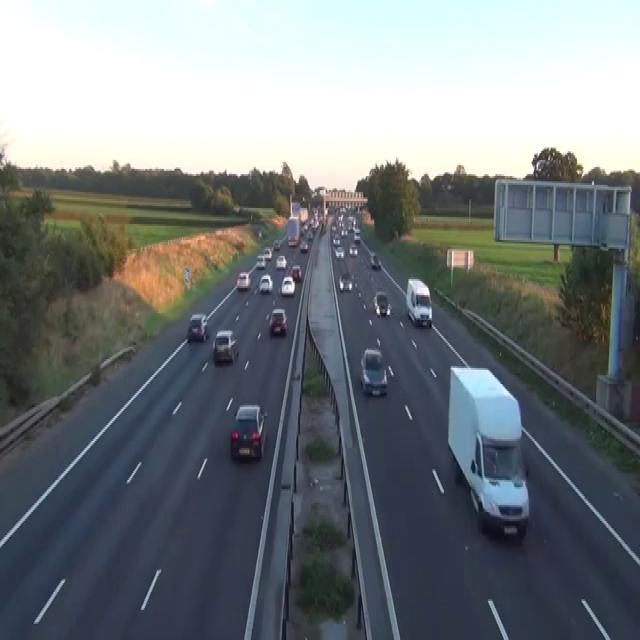Car: (230, 404, 267, 461), (360, 346, 387, 396), (212, 329, 238, 363), (187, 313, 207, 341), (268, 308, 287, 334), (372, 290, 389, 316), (236, 270, 251, 290), (280, 276, 295, 295), (259, 274, 273, 293), (339, 272, 352, 292), (291, 263, 301, 283), (370, 250, 381, 268), (275, 254, 286, 268), (256, 254, 266, 268), (335, 246, 344, 260), (263, 247, 272, 260), (299, 240, 308, 252), (287, 235, 297, 245), (349, 244, 357, 256), (273, 238, 280, 251), (353, 229, 360, 242), (332, 235, 340, 245), (232, 203, 240, 213), (306, 229, 313, 240), (340, 228, 347, 236), (331, 222, 336, 233), (321, 222, 326, 233), (258, 230, 262, 238)
Truck: (447, 364, 529, 538), (405, 277, 432, 327), (286, 215, 299, 245)
